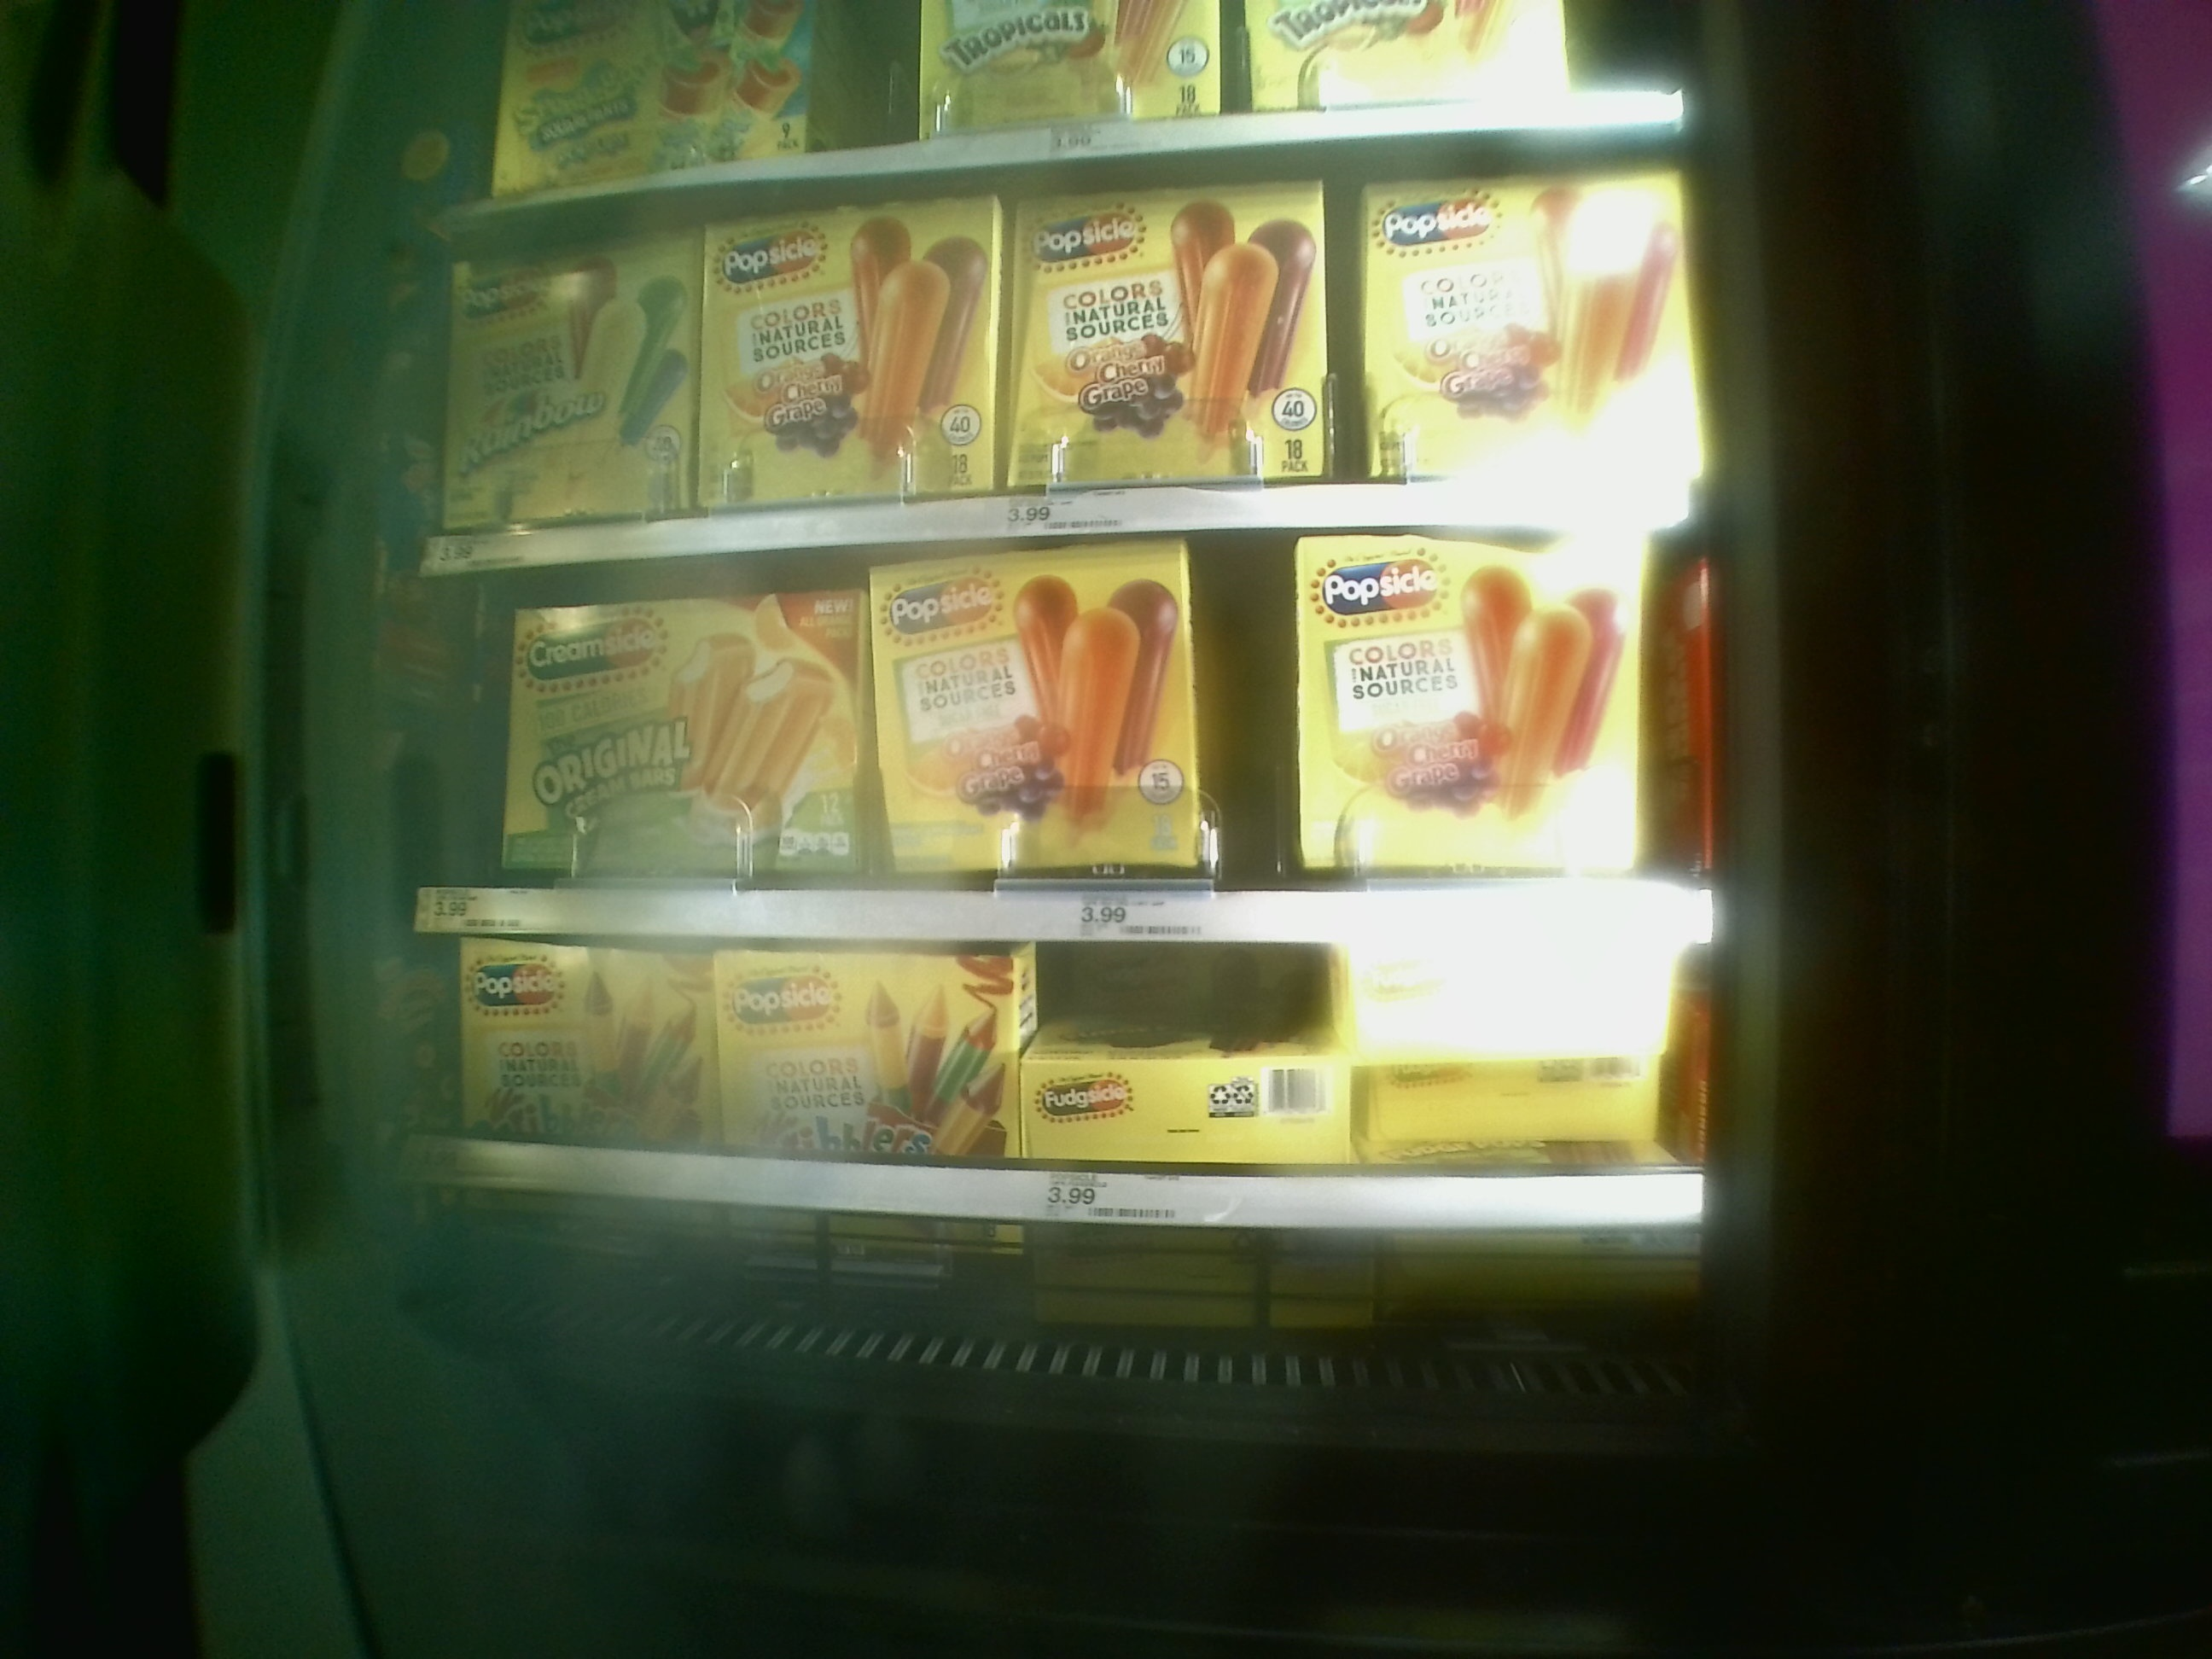frozen-food-shelf: (383, 938, 1726, 1236)
